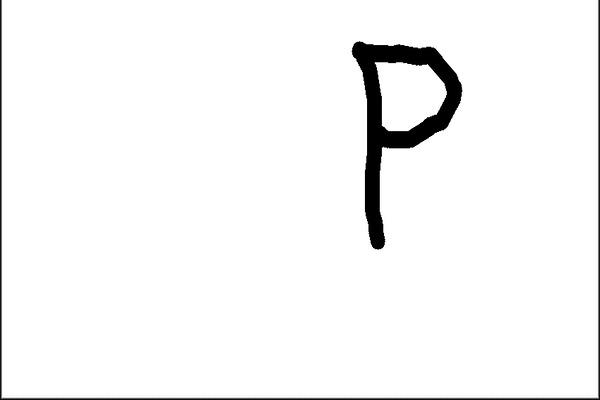P: (338, 26, 475, 260)
